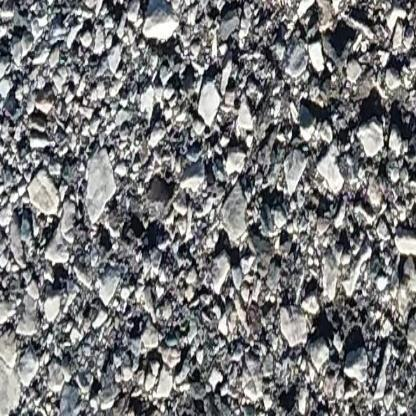Cracks: (249, 86, 416, 160)
